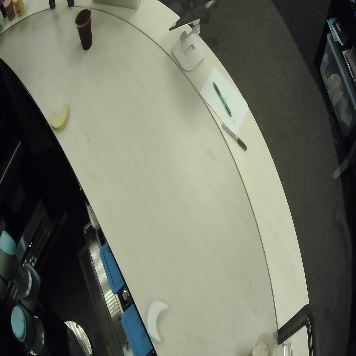full_cup: (73, 6, 96, 52), (250, 327, 279, 356), (12, 1, 27, 21), (1, 1, 12, 26)
puck: (147, 293, 172, 346), (49, 102, 77, 132)
